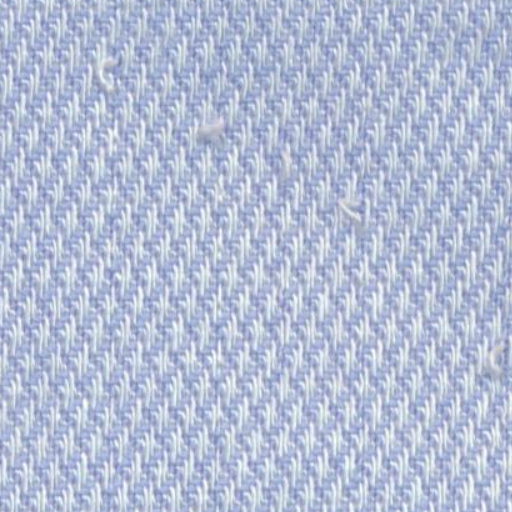DuanSha: (184, 98, 242, 164), (84, 42, 136, 106), (325, 182, 384, 238)
